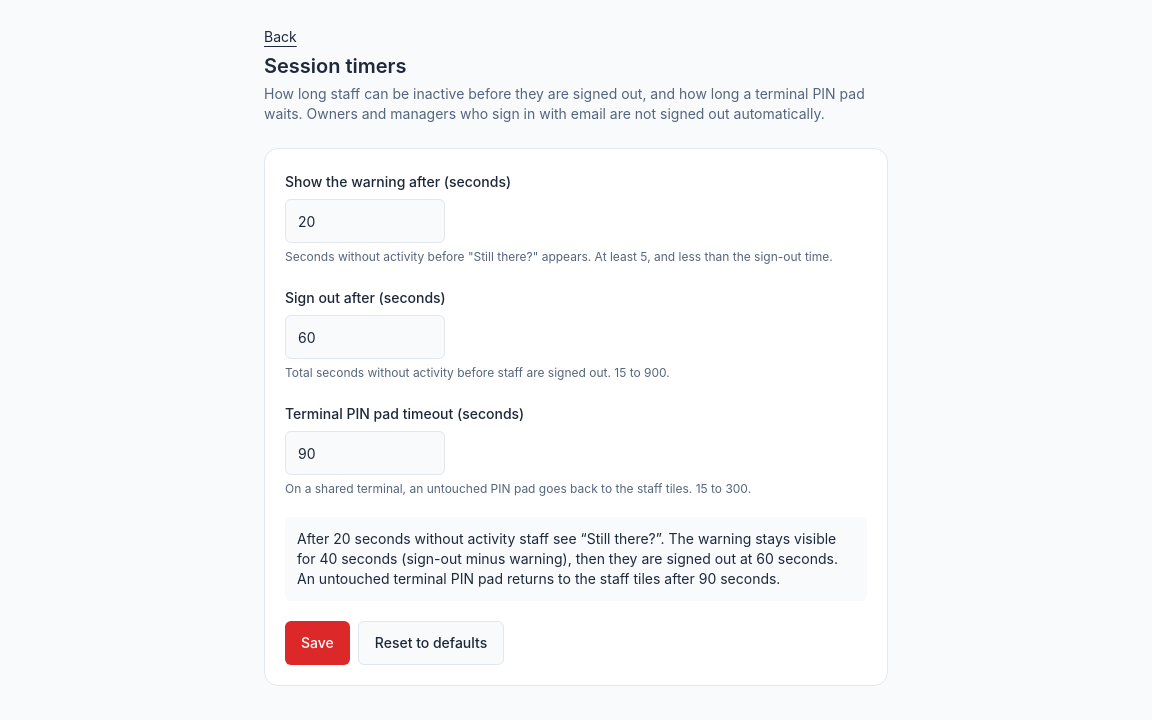
Scenario: SessionTimersPage › saves, toasts and refreshes the session context
Replace the text in the number field labelled "Show the warning after (seconds)" with "30" at (365, 221), box x1=285 y1=199 x2=445 y2=243
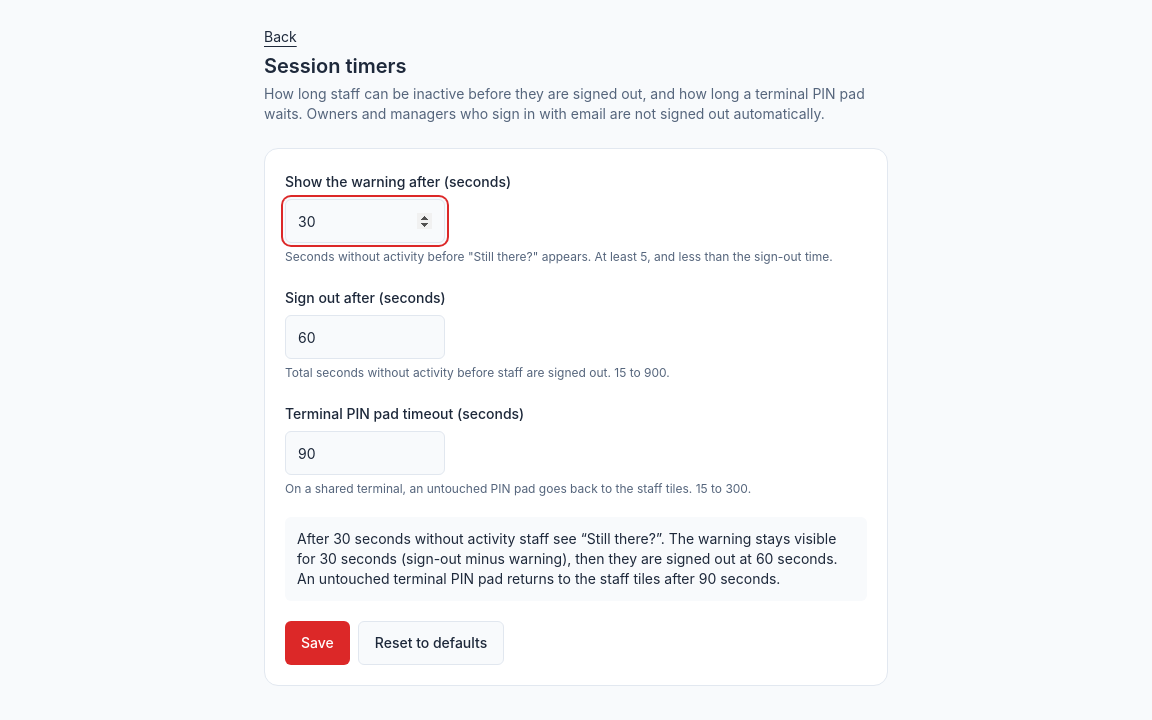
Replace the text in the number field labelled "Sign out after (seconds)" with "120" at (365, 337), box x1=285 y1=315 x2=445 y2=359
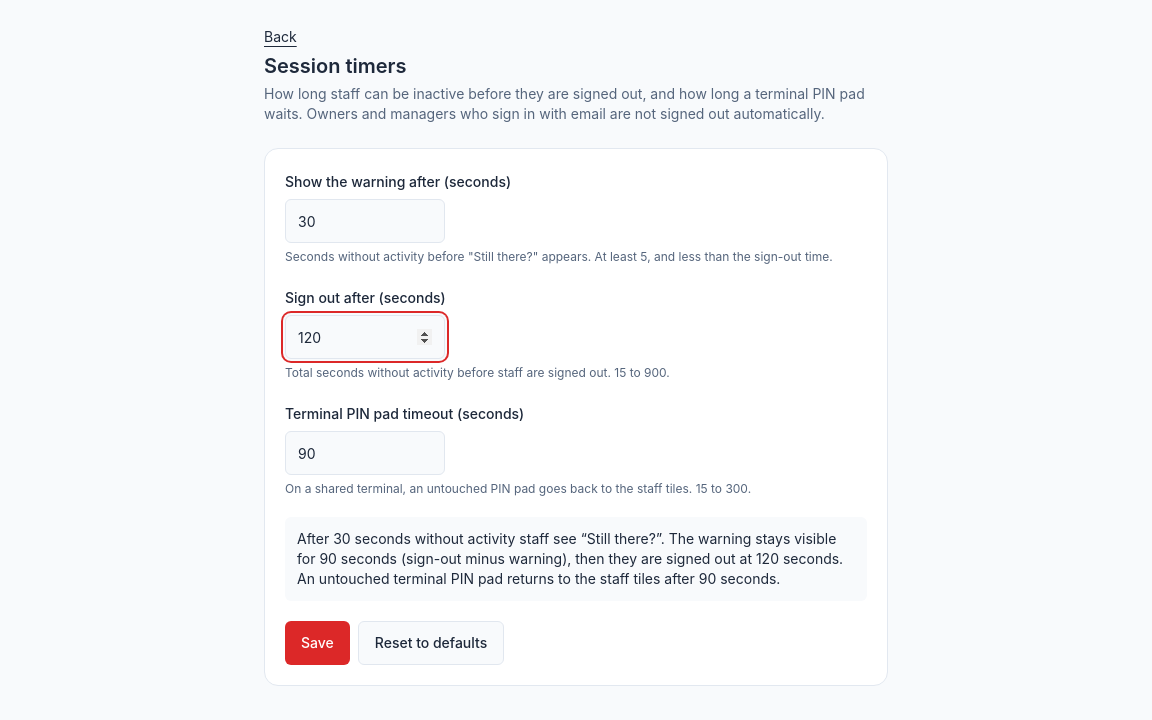
Replace the text in the number field labelled "Terminal PIN pad timeout (seconds)" with "45" at (365, 453), box x1=285 y1=431 x2=445 y2=475
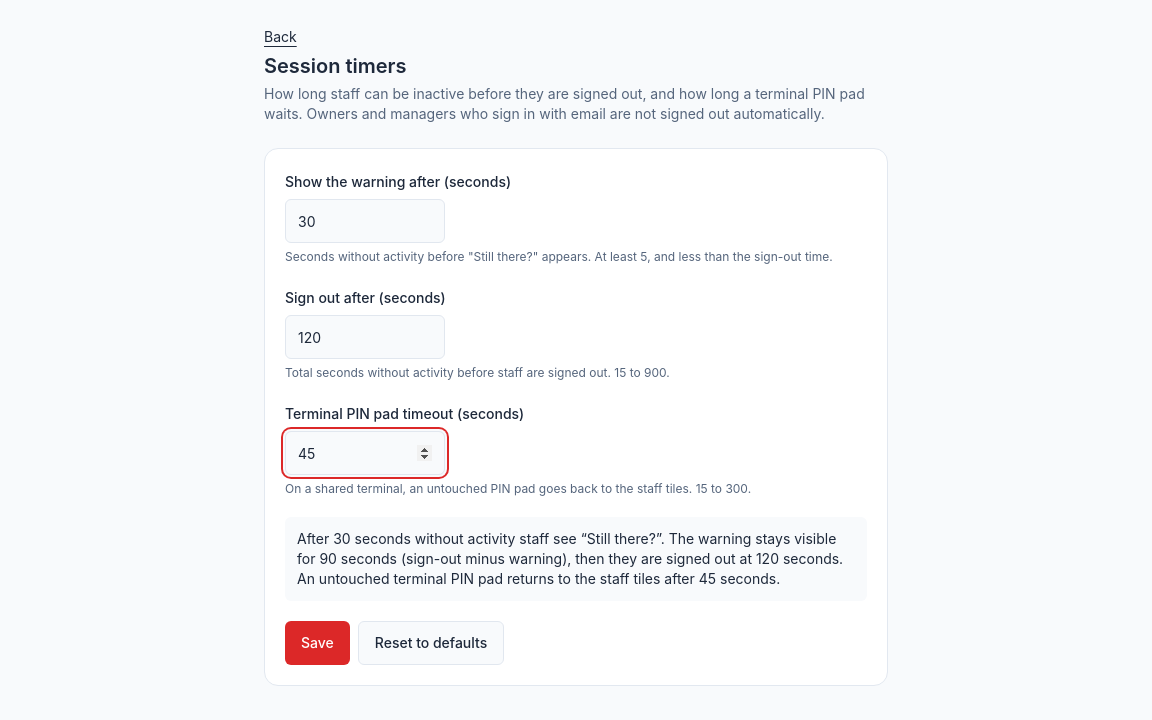
Click the button "Save" at (317, 643), box x1=285 y1=621 x2=350 y2=665
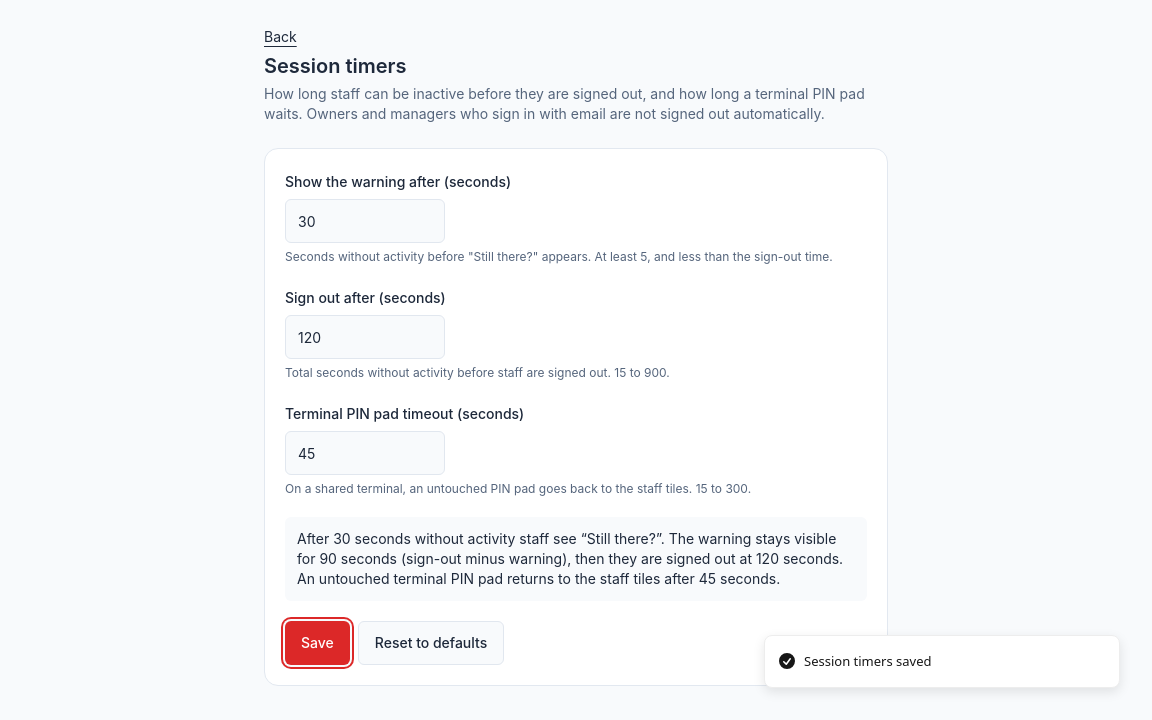
Expected: the text "Session timers saved" is shown, x1=804 y1=652 x2=932 y2=671
